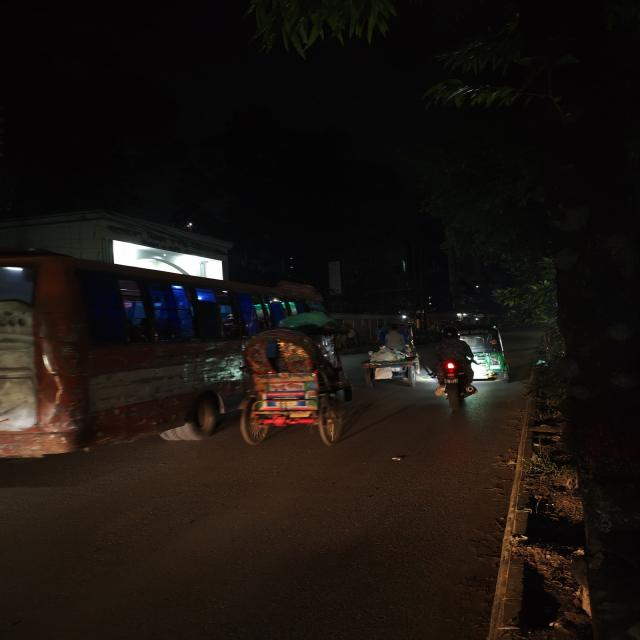bus: (1, 246, 344, 464)
cng: (465, 323, 512, 382)
motorcycle: (427, 326, 481, 412)
rickshaw: (238, 322, 354, 450), (359, 324, 424, 392)
